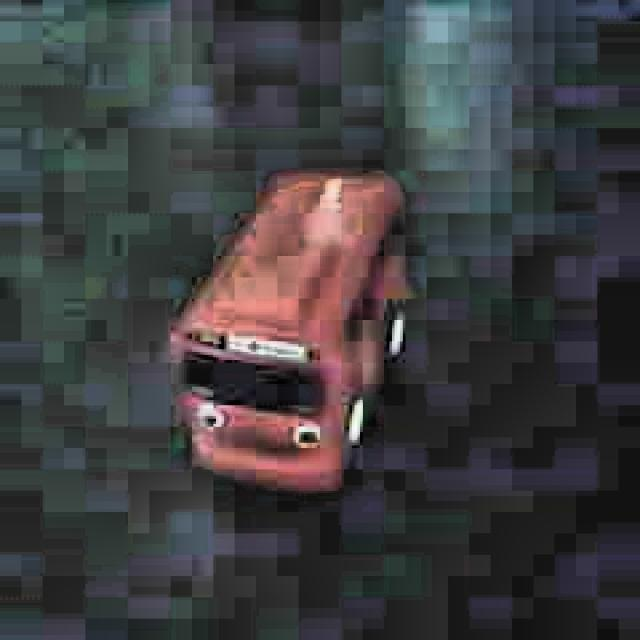bus: (161, 165, 420, 502)
